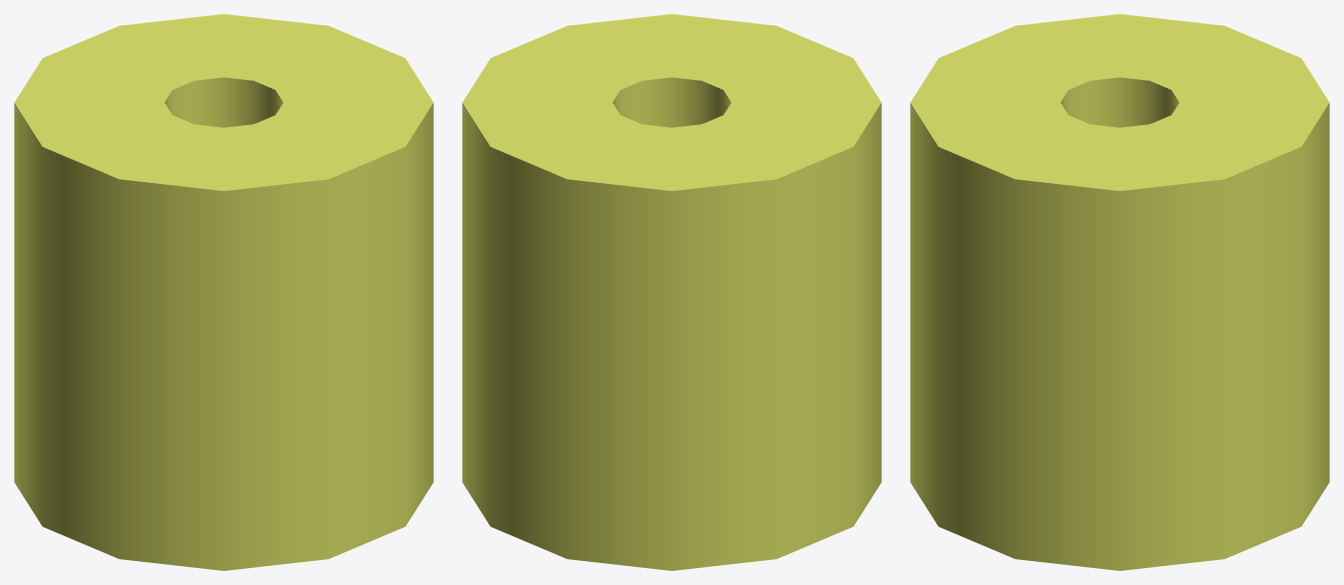
Rendered from ToiletPapier.fbx.
The picture shows the model from 3 angles, left to right: view 1: azimuth 30°, elevation 25°; view 2: azimuth 150°, elevation 25°; view 3: azimuth 270°, elevation 25°; orthographic projection.
Visible parts, largest first — view 1: ToiletPaper; view 2: ToiletPaper; view 3: ToiletPaper.
Boxes of the visible parts, <box> form: ToiletPaper: <box>14,14,433,570</box>; ToiletPaper: <box>462,14,881,570</box>; ToiletPaper: <box>910,14,1329,570</box>.
Bounding box in the file's own units: 20 × 20 × 20.
